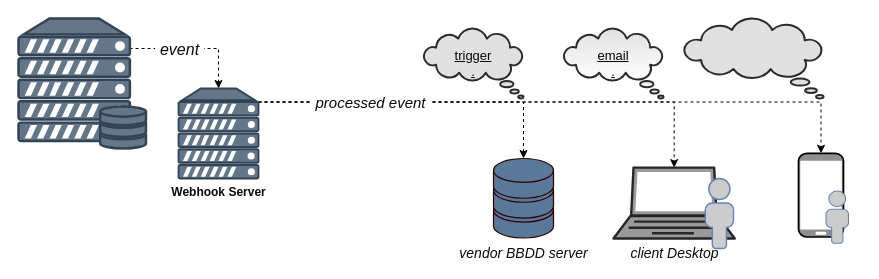
Image size: 879x279. Some labels were removed from this diagram. Here are the shapes that lost their labels. From the top down, the box of each, then its label:
(682, 17, 824, 99): push notification .
(17, 17, 146, 149): KillBill Server
(797, 152, 844, 238): client Mobile
